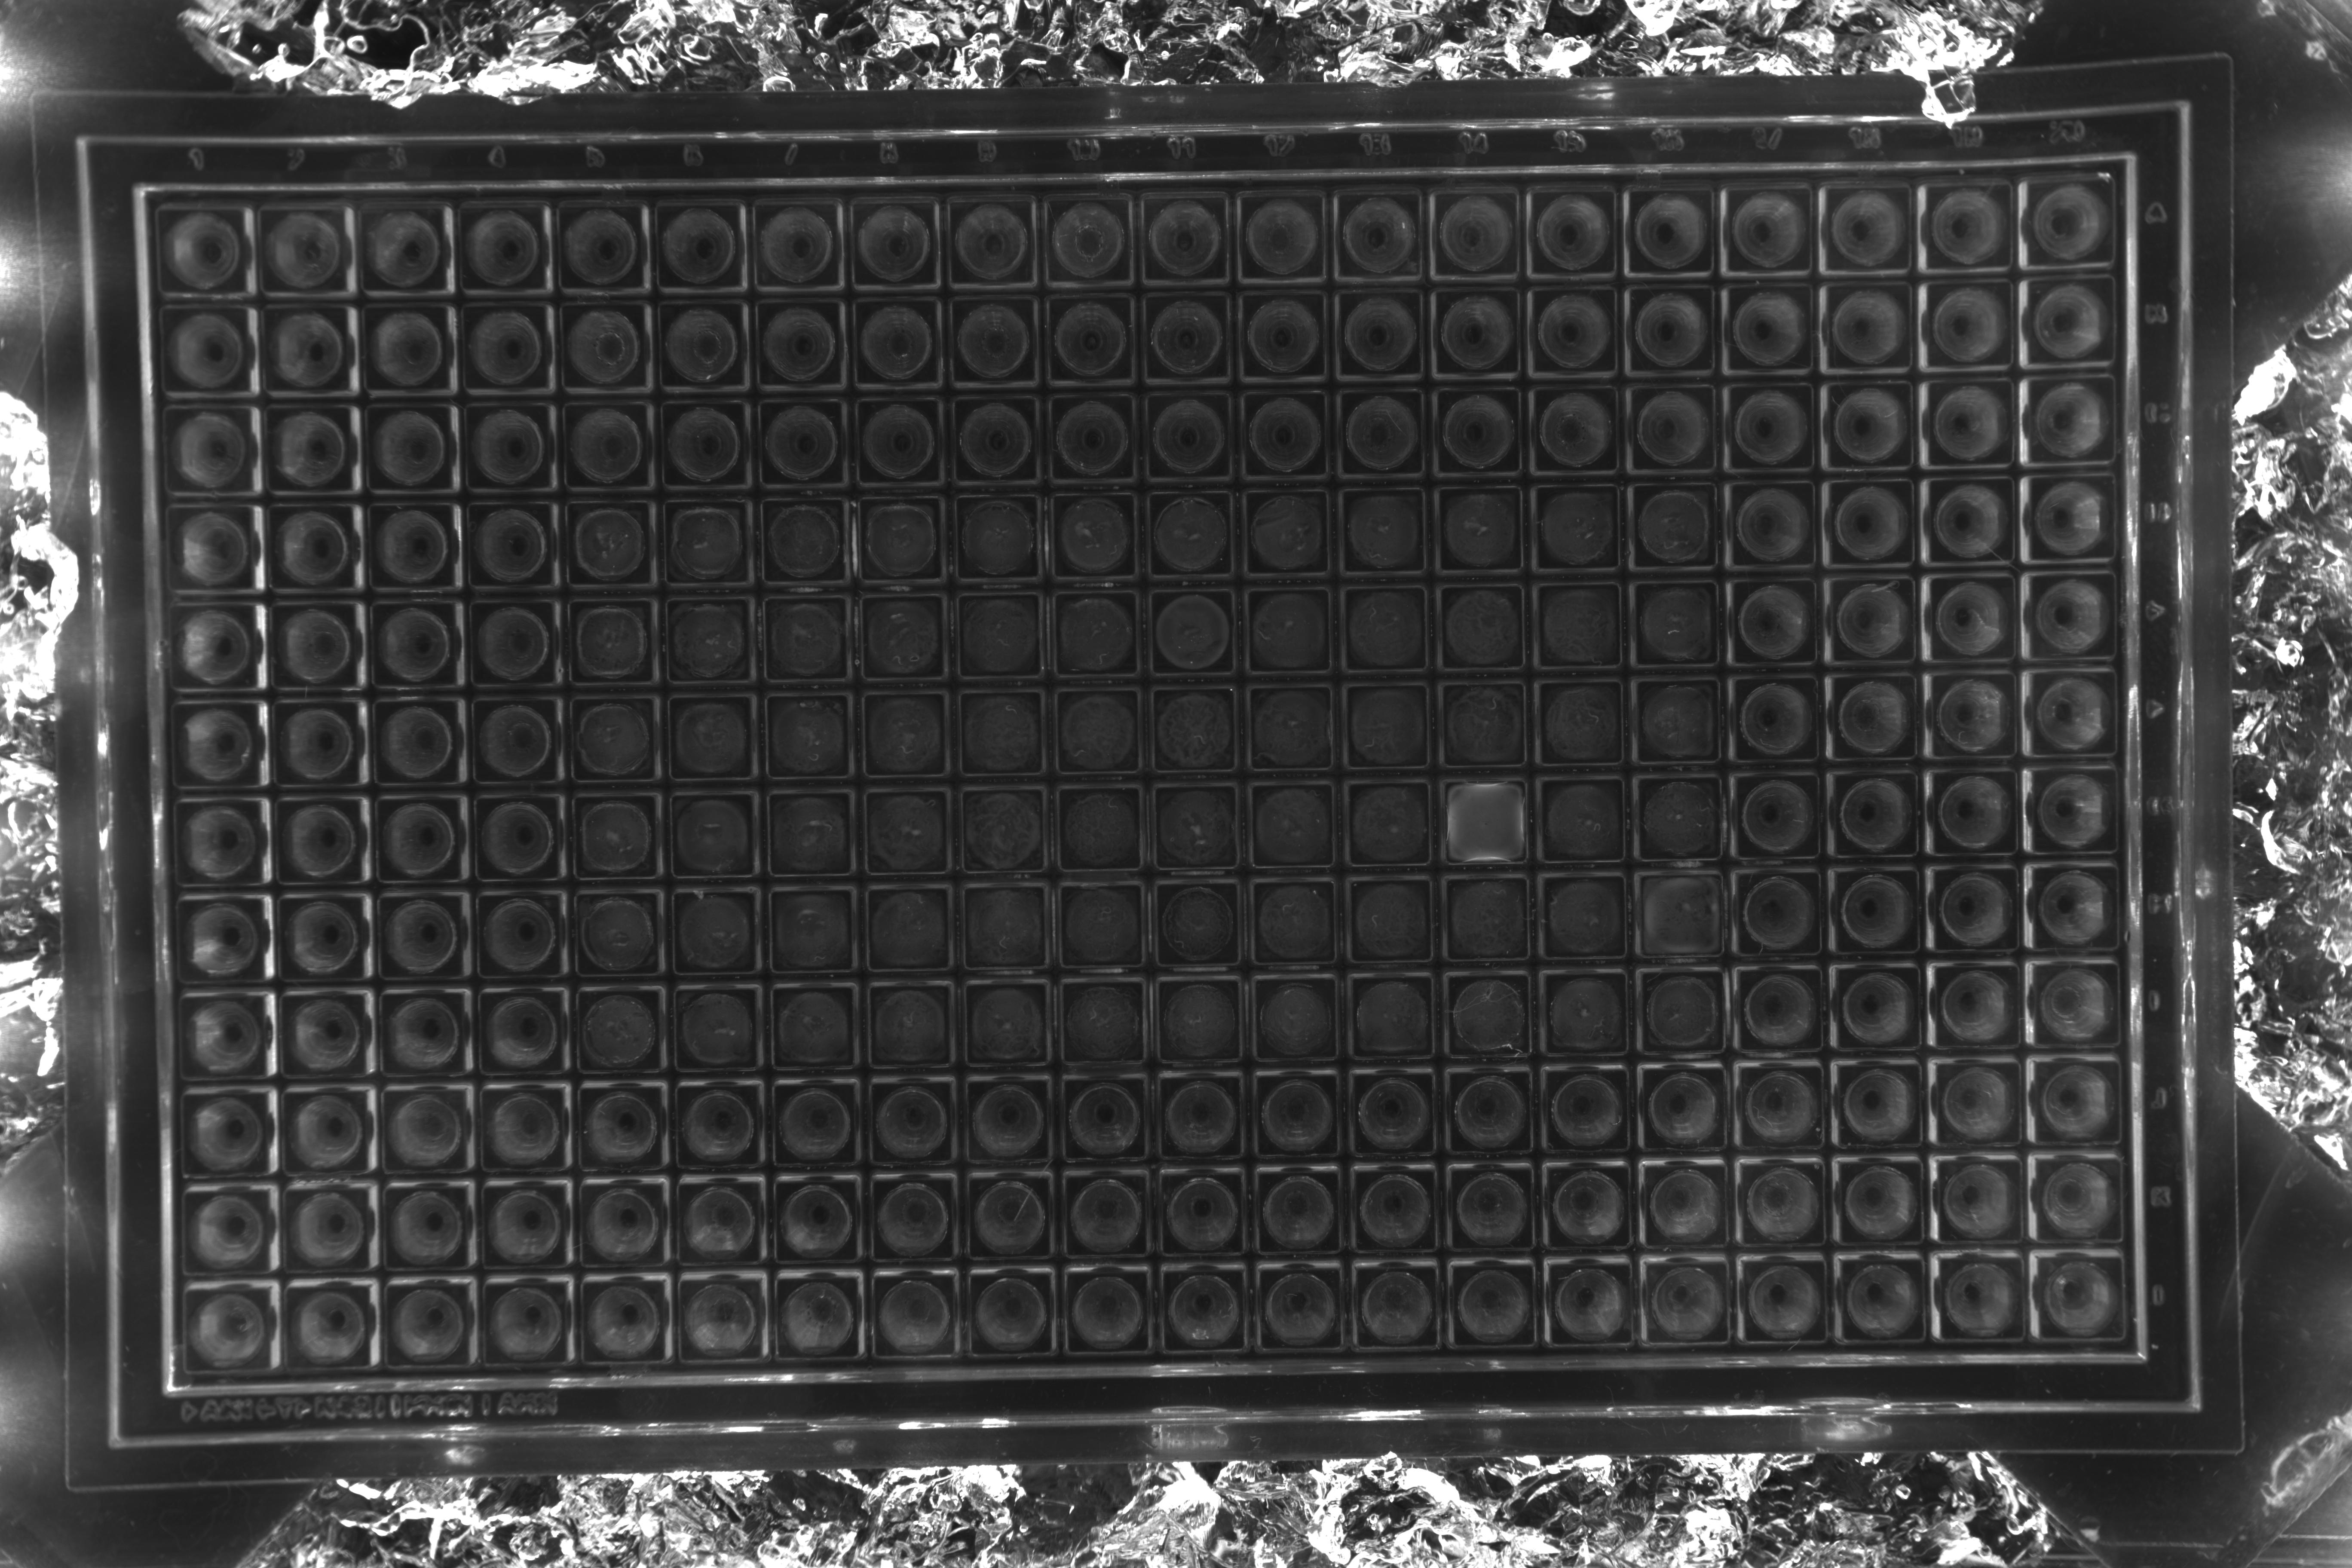WM_well: (397, 633, 486, 721), (588, 338, 677, 425), (789, 1018, 878, 1106), (789, 1115, 878, 1202), (290, 238, 378, 325), (388, 138, 476, 226), (401, 1022, 488, 1109), (497, 730, 584, 817), (786, 338, 873, 425), (887, 1018, 975, 1106), (983, 824, 1071, 912), (1080, 920, 1167, 1008), (1176, 142, 1263, 229), (1176, 338, 1263, 425), (1370, 726, 1458, 814), (1370, 532, 1458, 619), (1566, 432, 1654, 520), (1764, 331, 1851, 418), (1857, 1115, 1944, 1202), (1956, 919, 2044, 1006), (1960, 724, 2047, 812), (1962, 527, 2049, 614), (1963, 229, 2051, 317), (2054, 1213, 2142, 1300)
